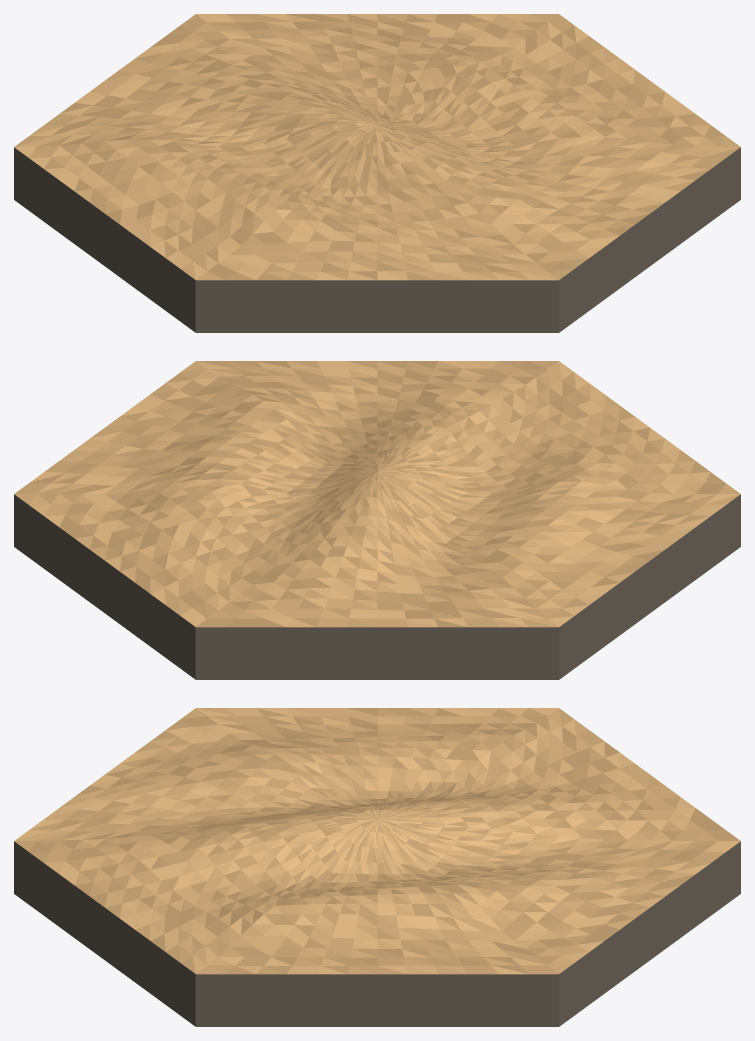
Rendered from TERRAIN_DESERT_v02.fbx.
The picture shows the model from 3 angles, top to bottom: view 1: azimuth 30°, elevation 25°; view 2: azimuth 150°, elevation 25°; view 3: azimuth 270°, elevation 25°; orthographic projection.
Parts seen in each view (by area): view 1: TERRAIN_DESERT_v02; view 2: TERRAIN_DESERT_v02; view 3: TERRAIN_DESERT_v02.
Boxes of the visible parts, x1,y1,x2,y2 form: TERRAIN_DESERT_v02: (14, 14, 740, 332); TERRAIN_DESERT_v02: (14, 361, 740, 679); TERRAIN_DESERT_v02: (14, 708, 740, 1026).
Bounding box in the file's own units: 173 × 22.96 × 200.
